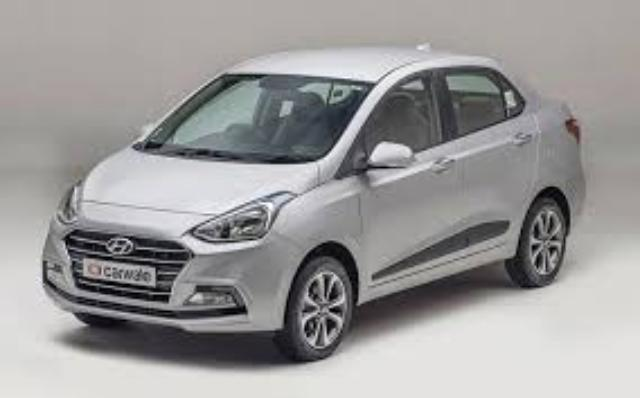hyundai: (42, 42, 588, 362)
